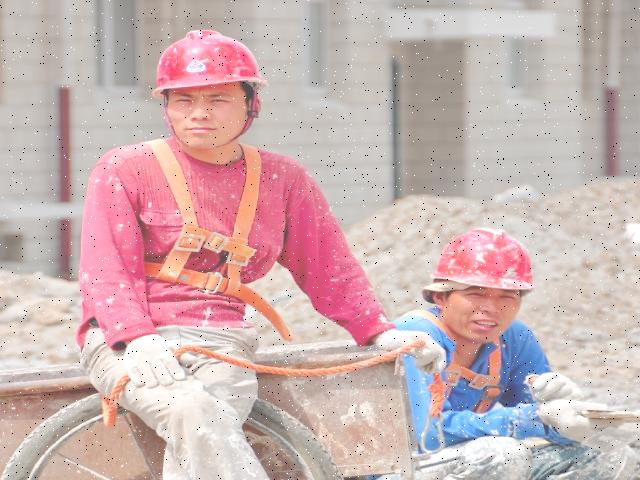Helmet: (150, 26, 276, 102), (427, 224, 543, 296)
